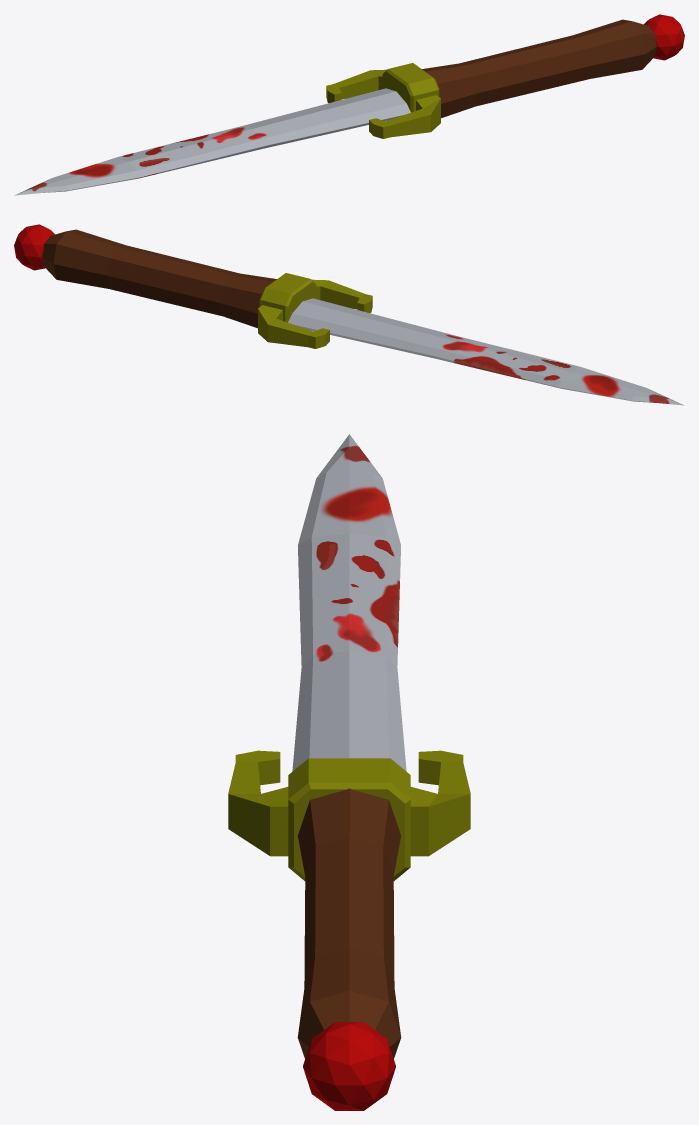
The model's file is bloody knife.glb.
The picture shows the model from 3 angles, top to bottom: view 1: azimuth 30°, elevation 25°; view 2: azimuth 150°, elevation 25°; view 3: azimuth 270°, elevation 25°; orthographic projection. The views are drawn at different scales.
Visible parts, largest first — view 1: Cube.002, Cube.004, Cube.003, Icosphere; view 2: Cube.002, Cube.004, Cube.003, Icosphere; view 3: Cube.004, Cube.002, Cube.003, Icosphere.
Boxes of the visible parts, x1,y1,x2,y2 form: Cube.002: [422, 19, 656, 118]; Cube.004: [14, 88, 410, 195]; Cube.003: [326, 63, 440, 138]; Icosphere: [644, 14, 684, 60]; Cube.002: [42, 229, 276, 328]; Cube.004: [288, 298, 684, 405]; Cube.003: [258, 273, 372, 348]; Icosphere: [14, 224, 54, 270]; Cube.004: [292, 434, 406, 771]; Cube.002: [297, 788, 401, 1058]; Cube.003: [228, 750, 470, 880]; Icosphere: [303, 1022, 395, 1110].
Size of the model in its own units: 2.63 by 0.1913 by 0.4136.
3 materials, 3 textured.
